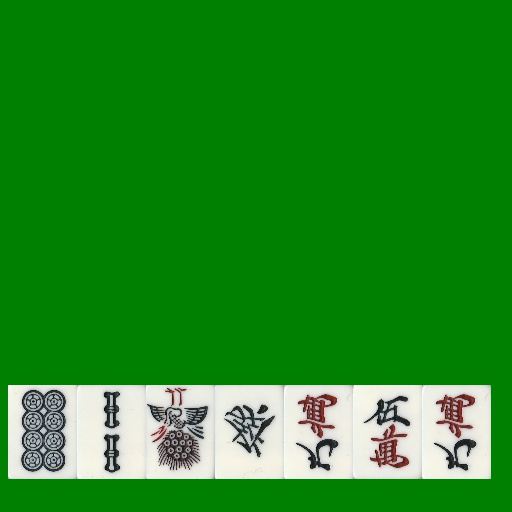1s: (146, 385, 215, 479)
2s: (77, 385, 146, 479)
5m: (353, 385, 422, 479)
8p: (8, 385, 77, 479)
9m: (284, 385, 353, 479), (422, 385, 491, 479)
hatsu: (215, 385, 284, 479)
